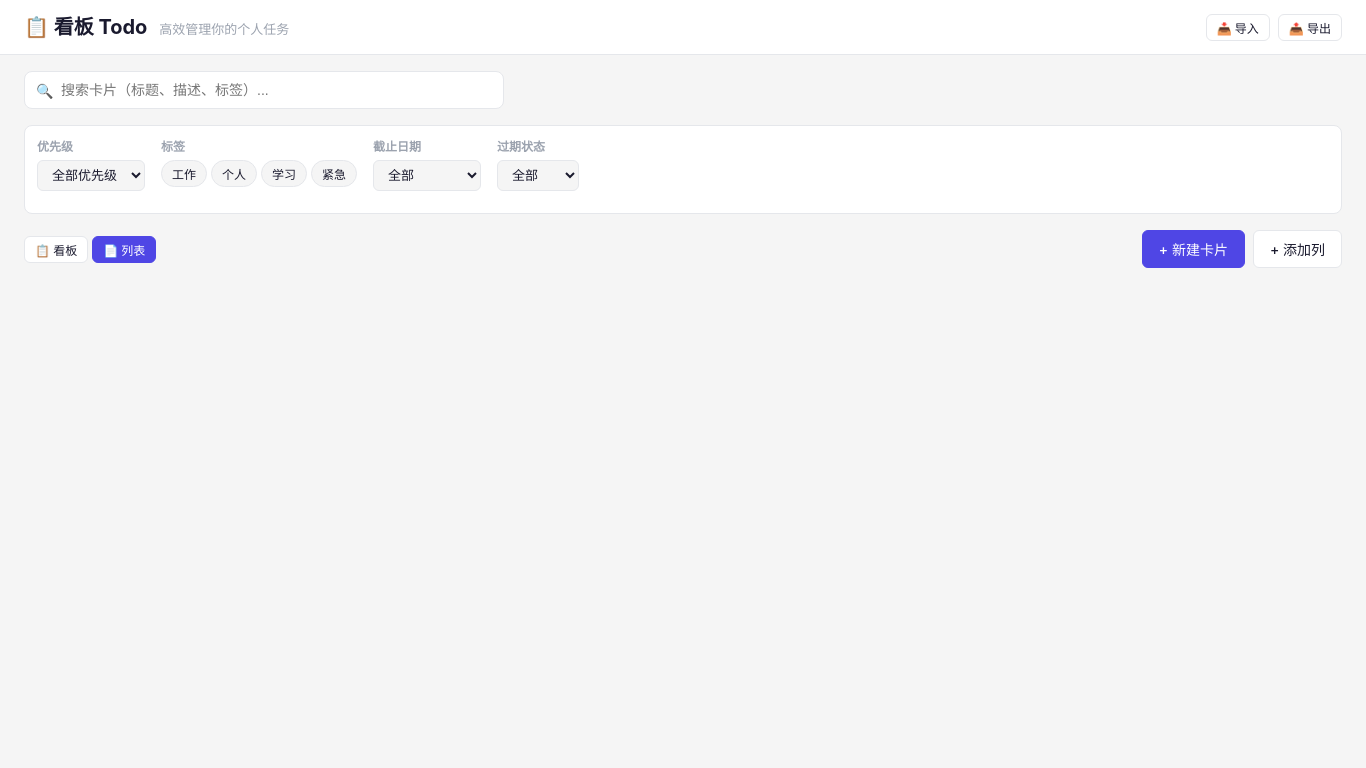
it: App view toggle › should switch back to board view when board toggle is clicked
Then switch back to board
Click the button with class "toggle-btn" showing "📋 看板": (56, 249) [24, 236, 88, 262]
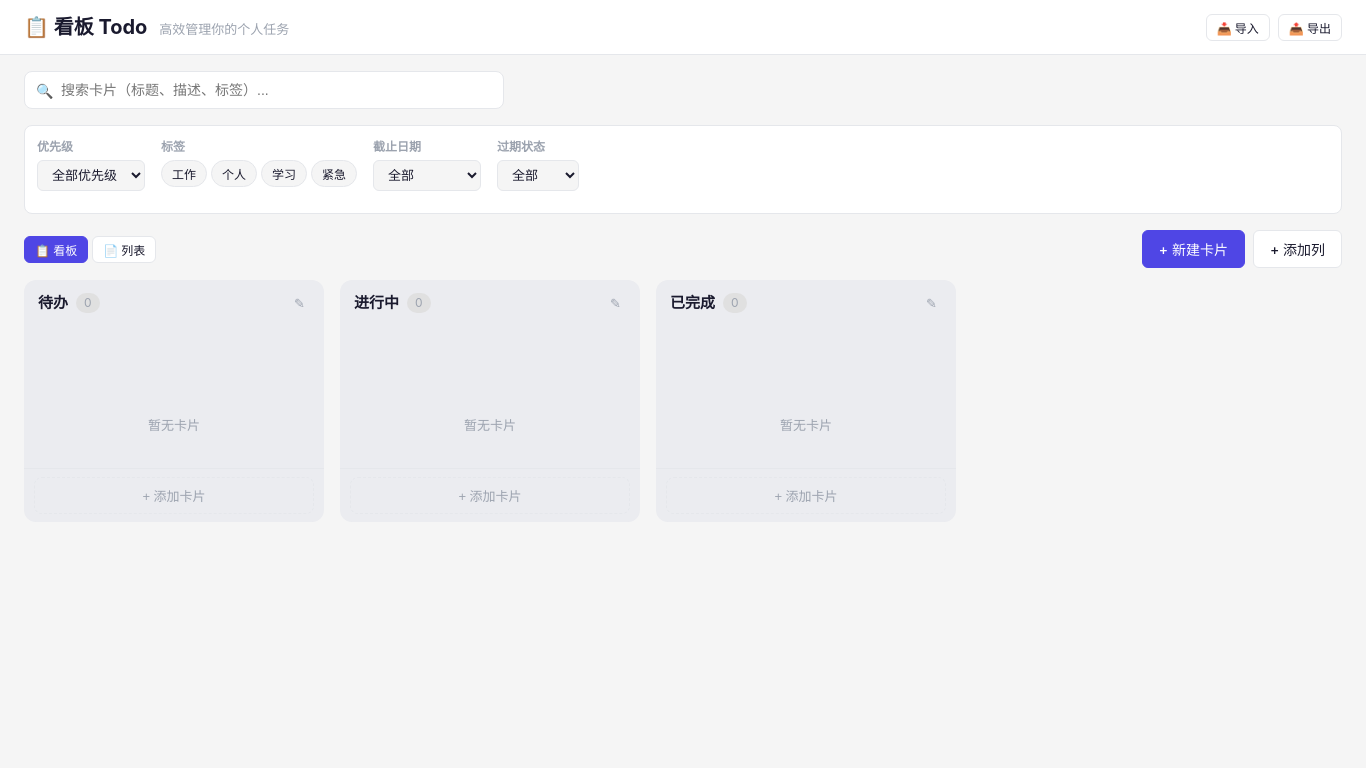
Expected: the element showing "待办 0 ✎ 暂无卡片 + 添加卡片 进行中 0 ✎ 暂无卡片 + 添加卡片 已完成 0 ✎ 暂无卡片 + 添加卡片" is shown, [24, 280, 956, 522]
